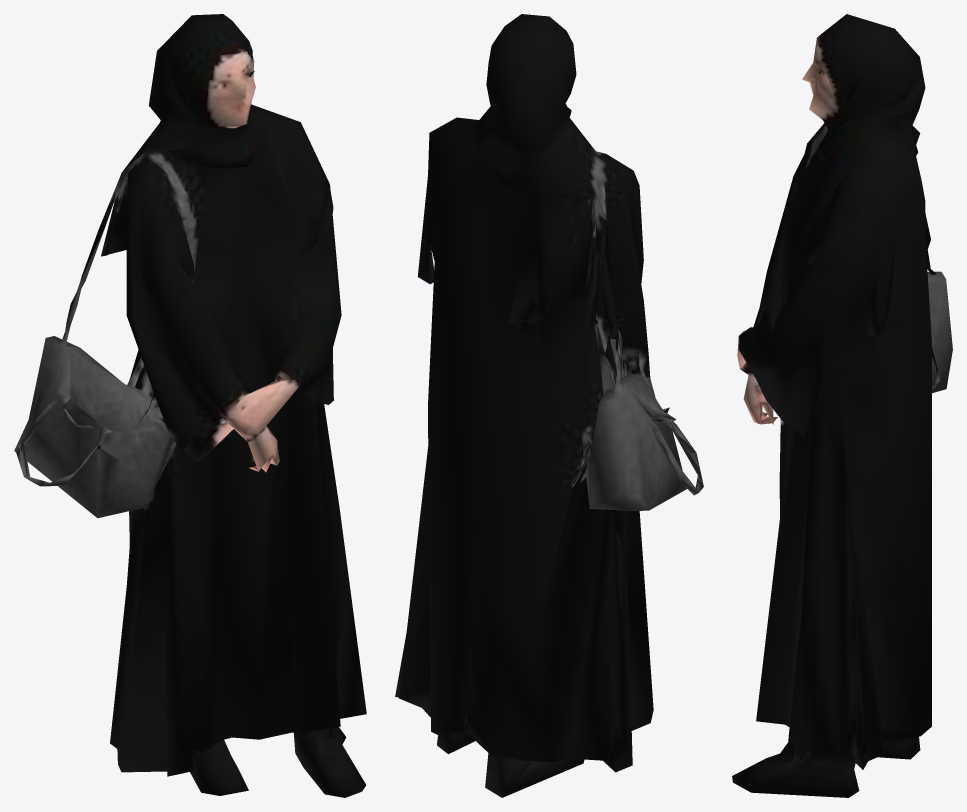
File: gcc-woman-3.glb
The picture shows the model from 3 angles, left to right: view 1: azimuth 30°, elevation 25°; view 2: azimuth 150°, elevation 25°; view 3: azimuth 270°, elevation 25°; orthographic projection. The views are drawn at different scales.
Parts seen in each view (by area): view 1: Mesh_0; view 2: Mesh_0; view 3: Mesh_0.
Part boxes in pixels (<box>): Mesh_0: <box>14,14,366,797</box>; Mesh_0: <box>395,14,703,797</box>; Mesh_0: <box>732,14,952,797</box>.
Bounding box in the file's own units: 0.8199 × 1.9 × 0.5183.
Materials: 1 (1 with a texture image).
